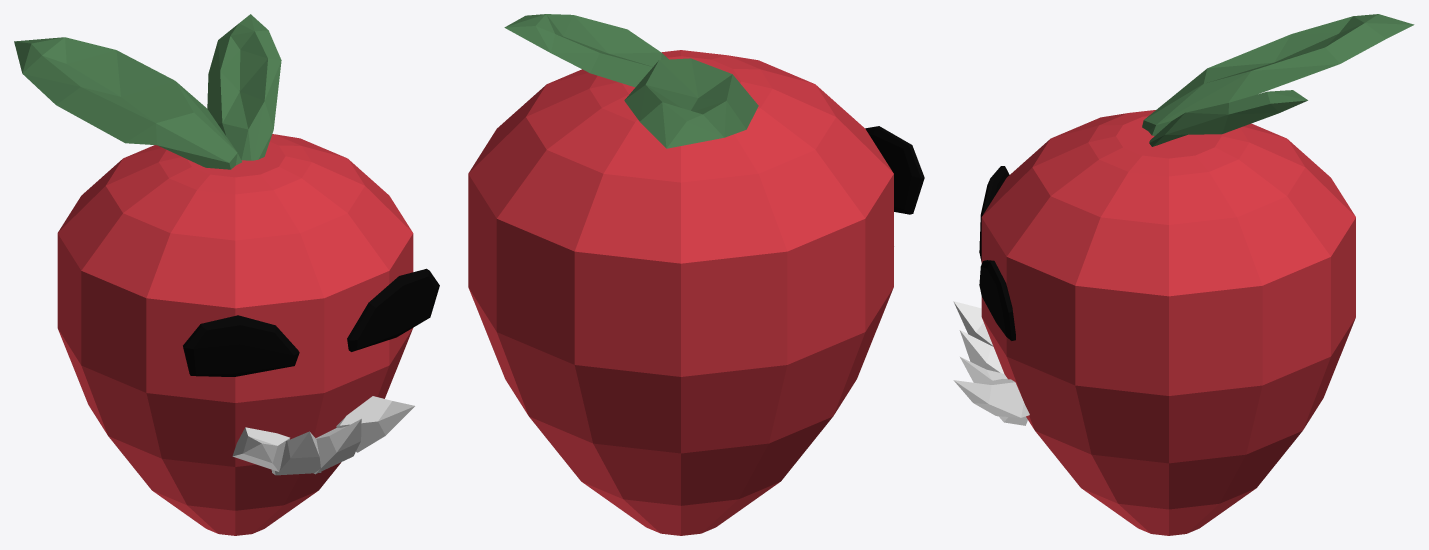
Rendered from Enemy_Strawberry (2).fbx.
3 views of the same model, side by side, from view 1: azimuth 30°, elevation 25°; view 2: azimuth 150°, elevation 25°; view 3: azimuth 270°, elevation 25° (orthographic). The views are drawn at different scales.
Visible parts, largest first — view 1: Enemy_StrawberryModel; view 2: Enemy_StrawberryModel; view 3: Enemy_StrawberryModel.
Boxes of the visible parts, left/top/right/bottom form: Enemy_StrawberryModel: left=14, top=14, right=439, bottom=535; Enemy_StrawberryModel: left=468, top=14, right=924, bottom=535; Enemy_StrawberryModel: left=953, top=14, right=1414, bottom=535.
Bounding box in the file's own units: 15.86 × 21.89 × 19.55.
